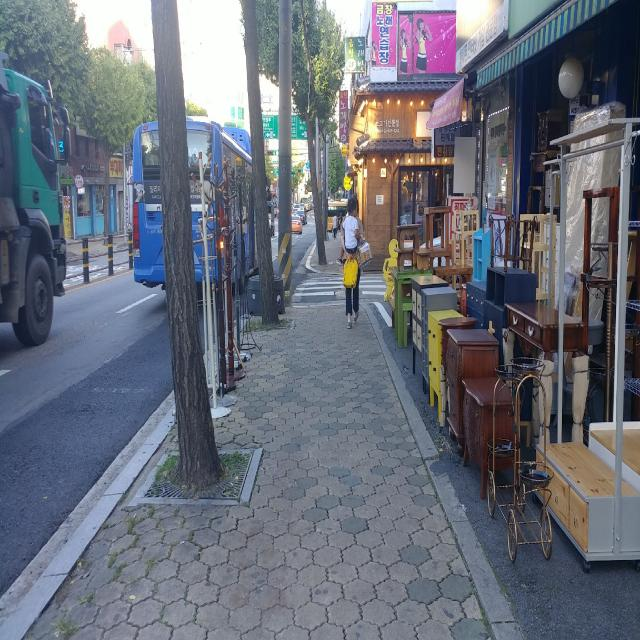횡단보도: (292, 276, 387, 298)
